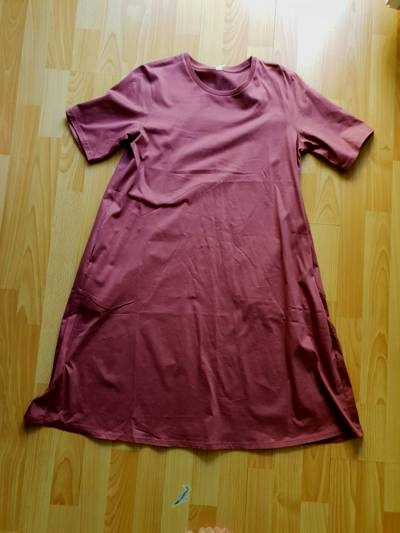Dress: (15, 46, 400, 480)
